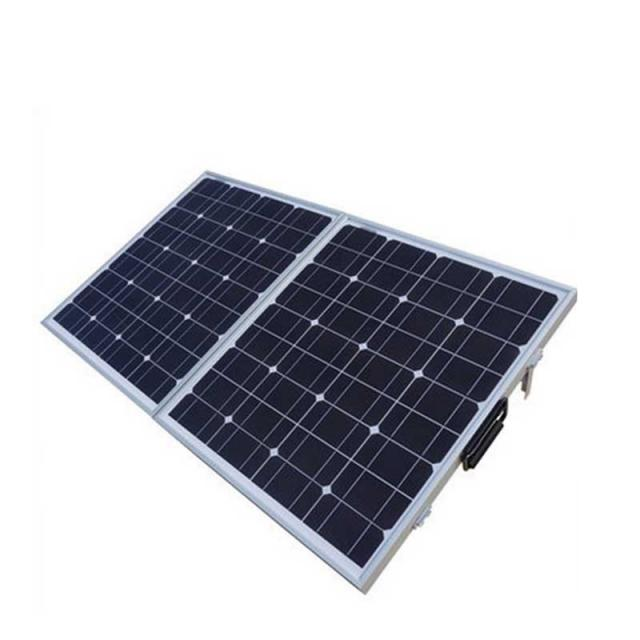no faulty: (45, 176, 570, 576)
